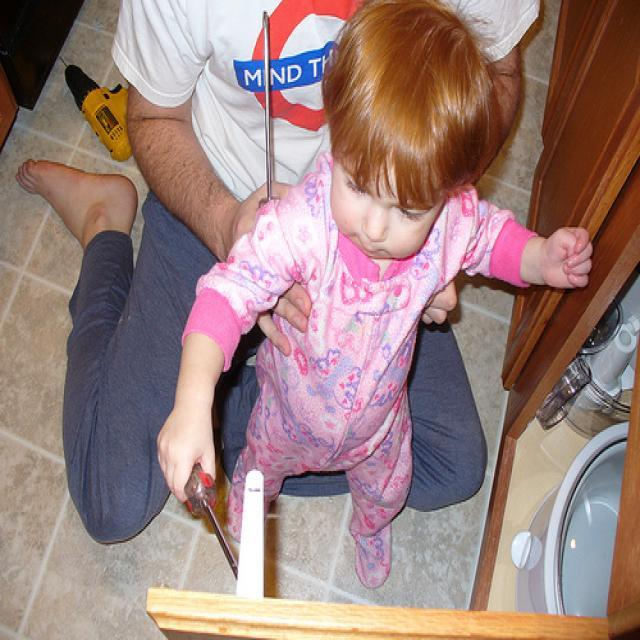screwdriver: (173, 452, 260, 604), (235, 0, 284, 228)
